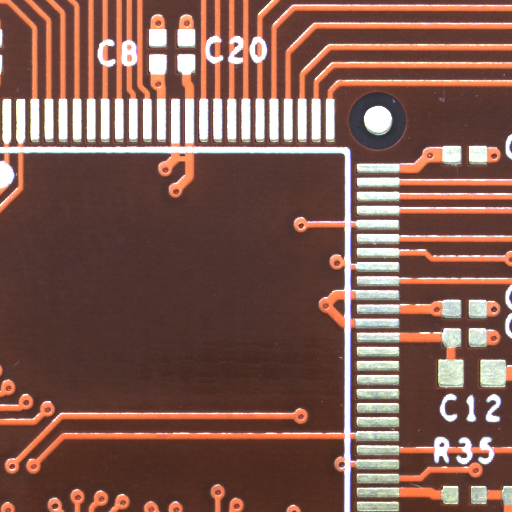Short: (181, 158, 195, 166)
